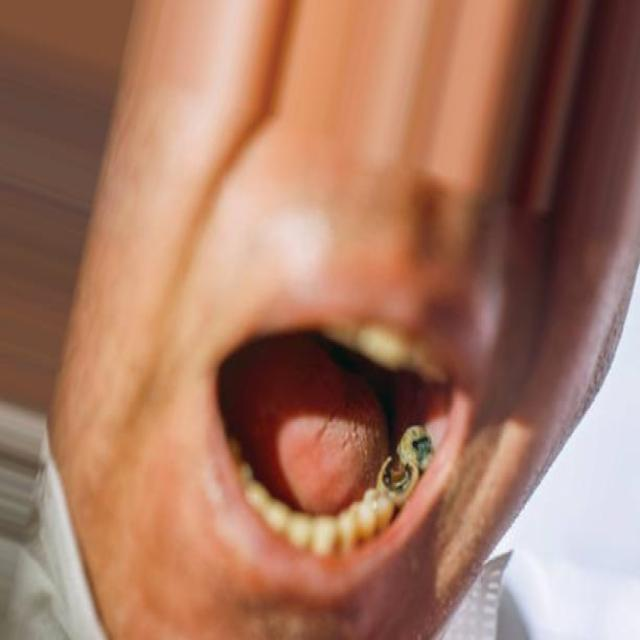caries: (381, 452, 419, 499), (404, 424, 436, 469)
